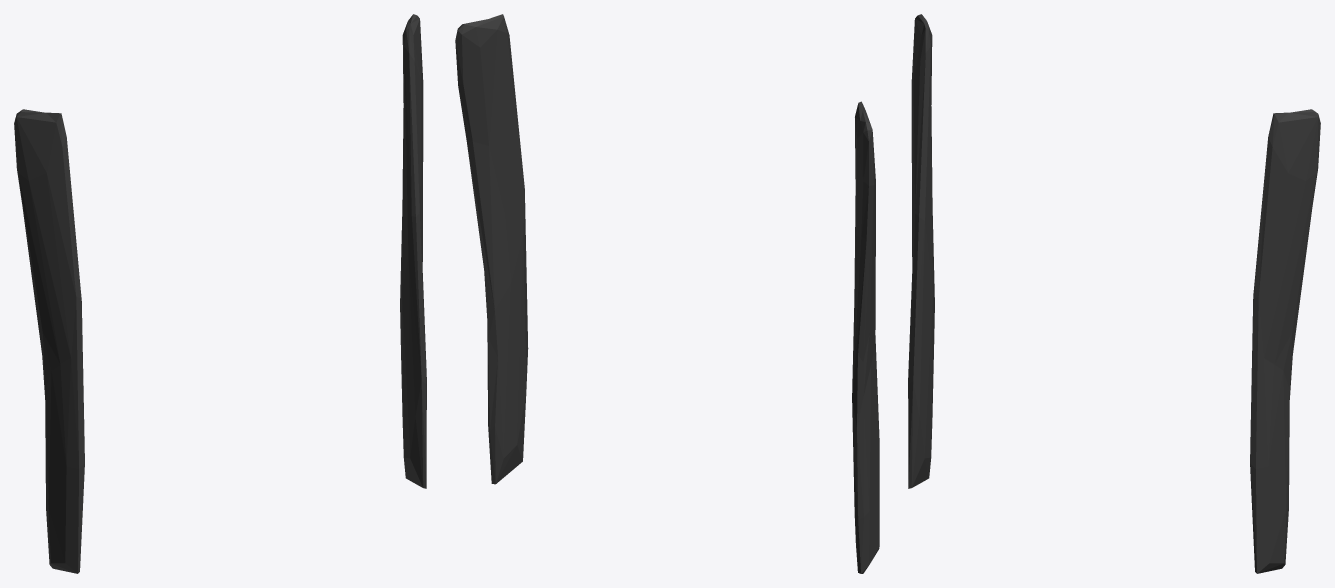
Rendered from m_pronator_quadratus.glb.
3 renders of one model, left to right at view 1: azimuth 30°, elevation 25°; view 2: azimuth 150°, elevation 25°; view 3: azimuth 330°, elevation 25°, orthographic. The views are drawn at different scales.
Visible parts, largest first — view 1: m_pronator_quadratus; view 2: m_pronator_quadratus; view 3: m_pronator_quadratus.
Boxes of the visible parts, x1,y1,x2,y2 form: m_pronator_quadratus: (14,14,426,573); m_pronator_quadratus: (455,14,879,573); m_pronator_quadratus: (908,14,1320,573).
Bounding box in the file's own units: 0.00362 × 0.00391 × 0.000593.
Materials: 1 (1 with a texture image).
